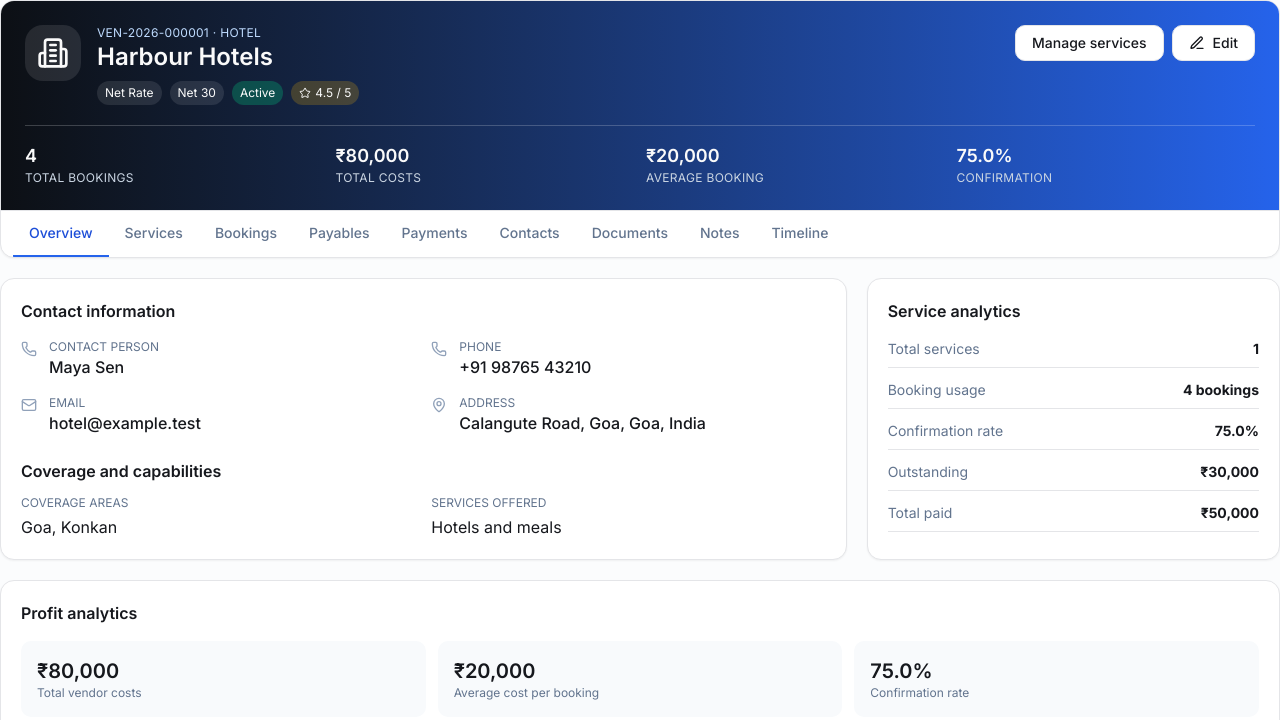
Test: Phase 11 vendor pages › renders the details workspace and switches through operational tabs
Expected: the heading "Harbour Hotels" is shown, x1=97 y1=42 x2=273 y2=71
Expected: the text "₹80,000" below "Net Rate" is shown, x1=336 y1=145 x2=409 y2=166
Click the button "Bookings" at (246, 234), box x1=199 y1=211 x2=293 y2=257
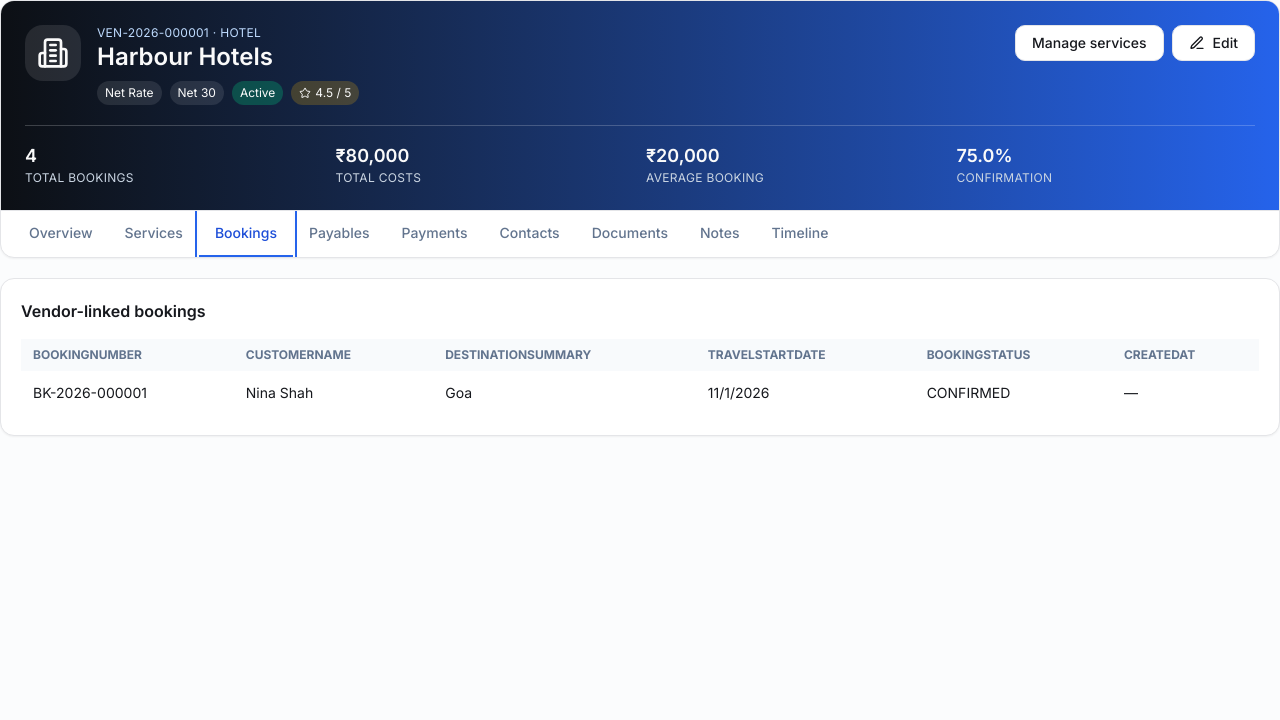
Expected: the text "BK-2026-000001" is shown, x1=21 y1=371 x2=234 y2=415
Click the button "Timeline" at (800, 234), box x1=755 y1=211 x2=844 y2=257
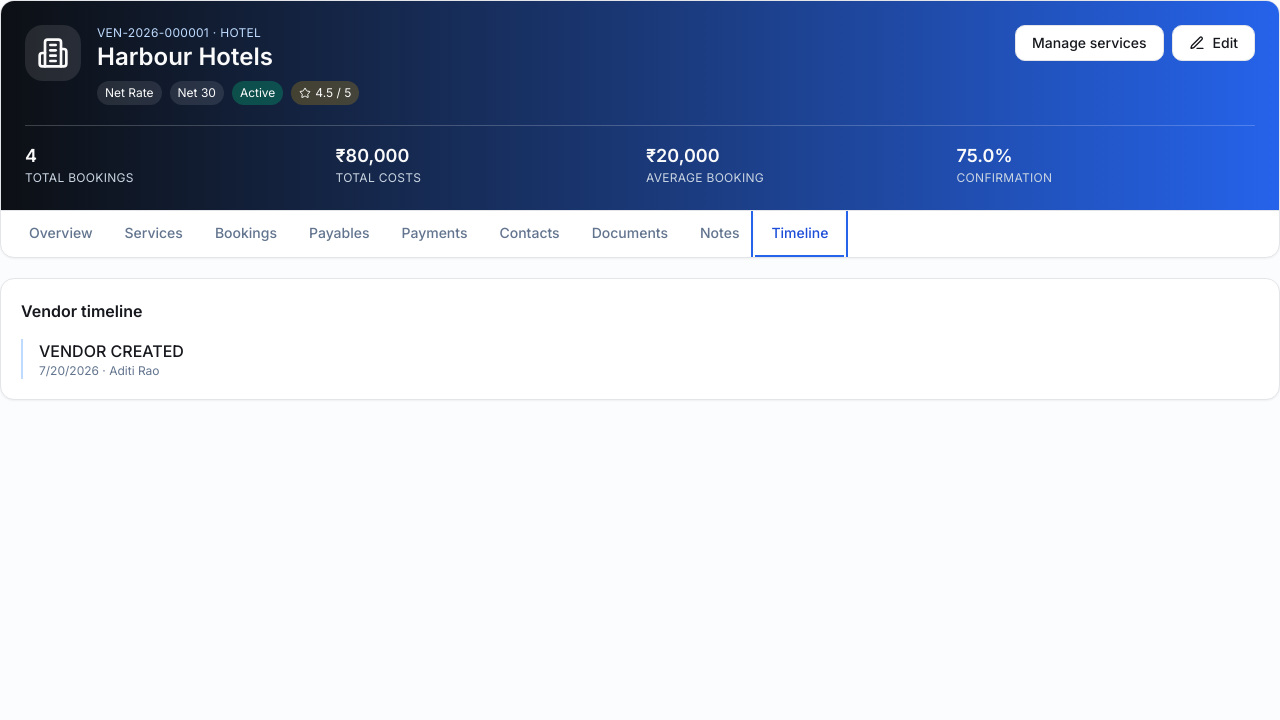
Expected: the text "VENDOR CREATED" is shown, x1=39 y1=339 x2=184 y2=363
